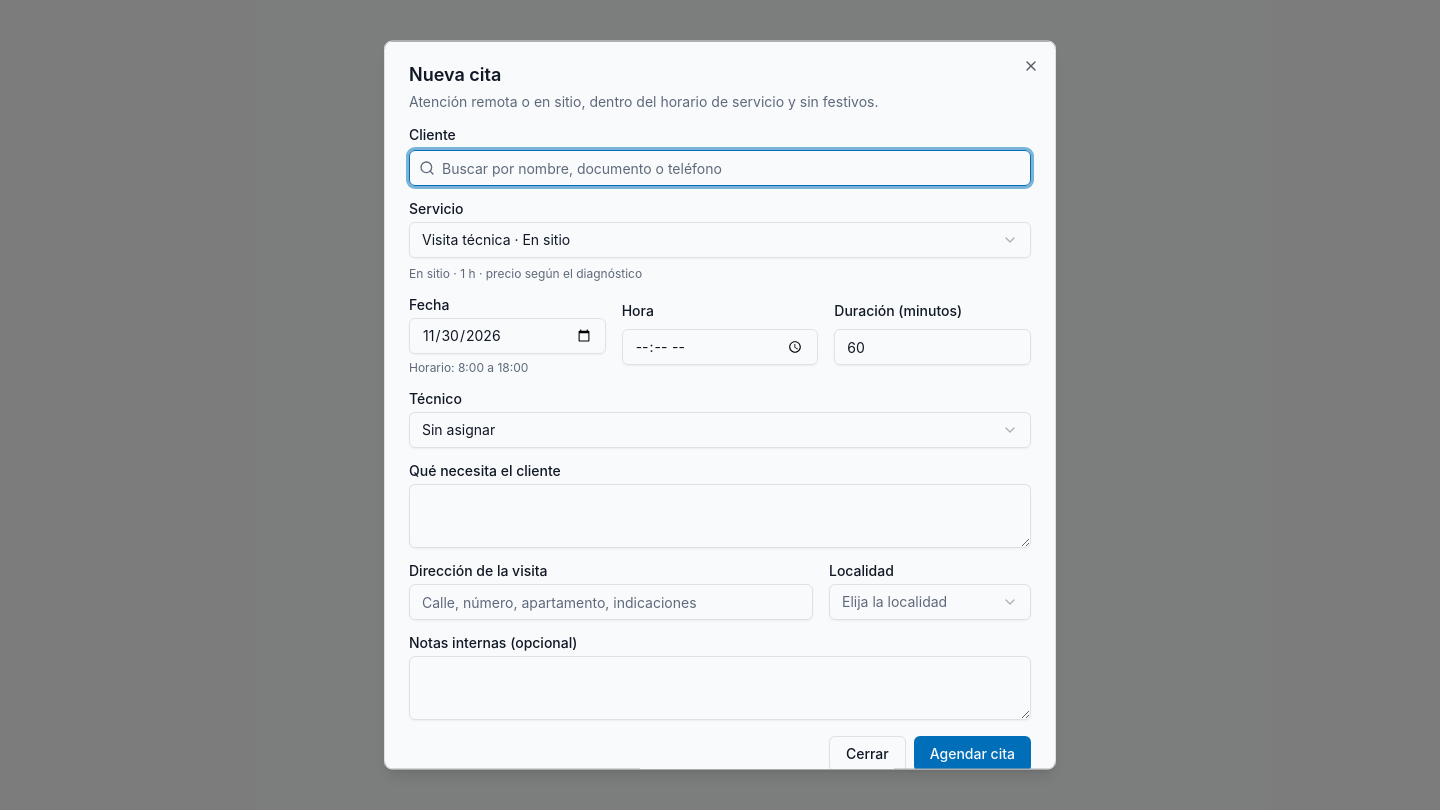
it: AppointmentFormDialog › requires the address of an on-site visit
The image size is (1440, 810).
Expected: the text "En sitio · 1 h · precio según el diagnóstico" is shown, x1=409 y1=266 x2=642 y2=280
Expected: the text "Horario: 8:00 a 18:00" is shown, x1=409 y1=360 x2=528 y2=374
Click the button "Agendar cita".
click(972, 754)  # box x1=914 y1=736 x2=1031 y2=772
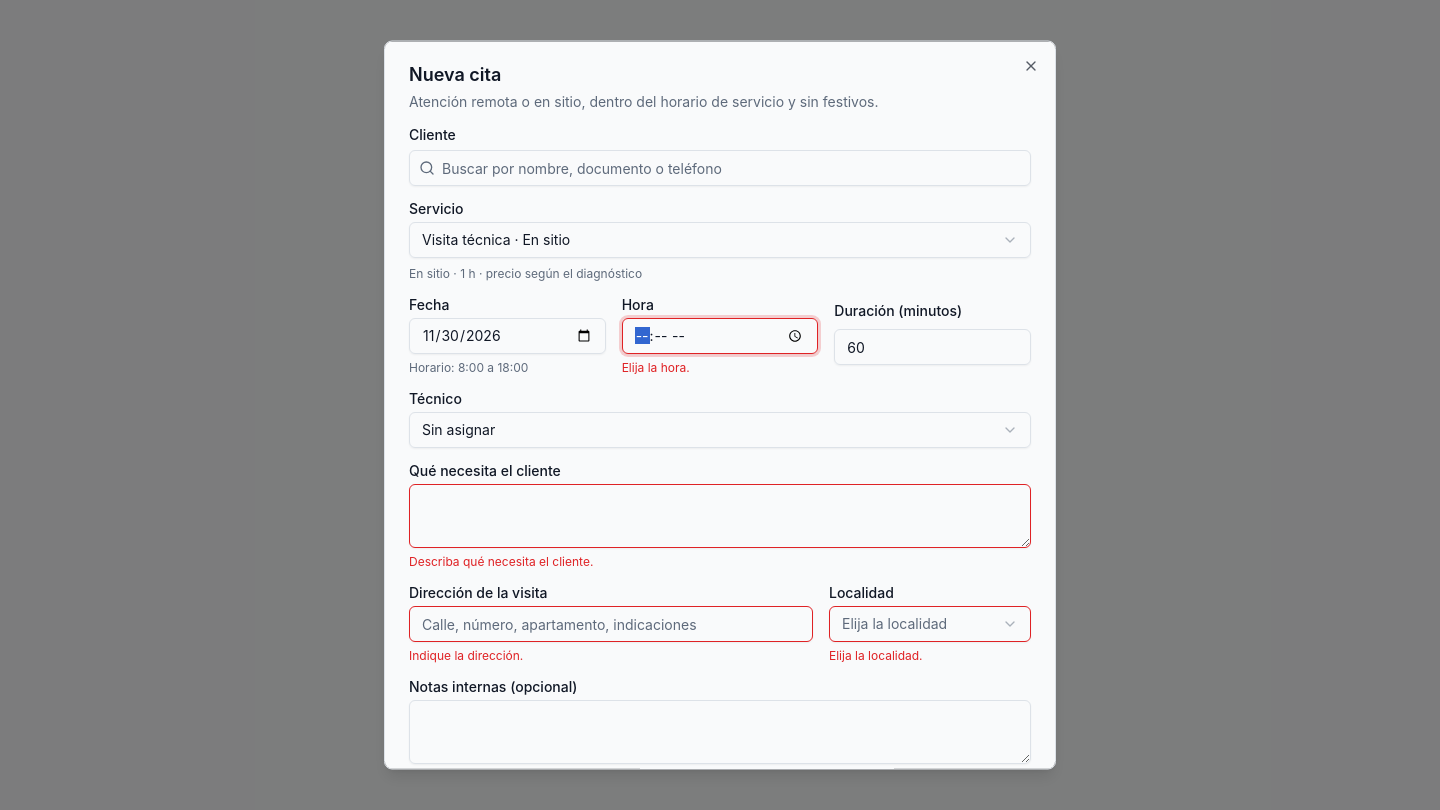
Now the text "Indique la dirección." is shown, box x1=409 y1=648 x2=523 y2=662
Now the text "Elija la localidad." is shown, box x1=829 y1=648 x2=923 y2=662
